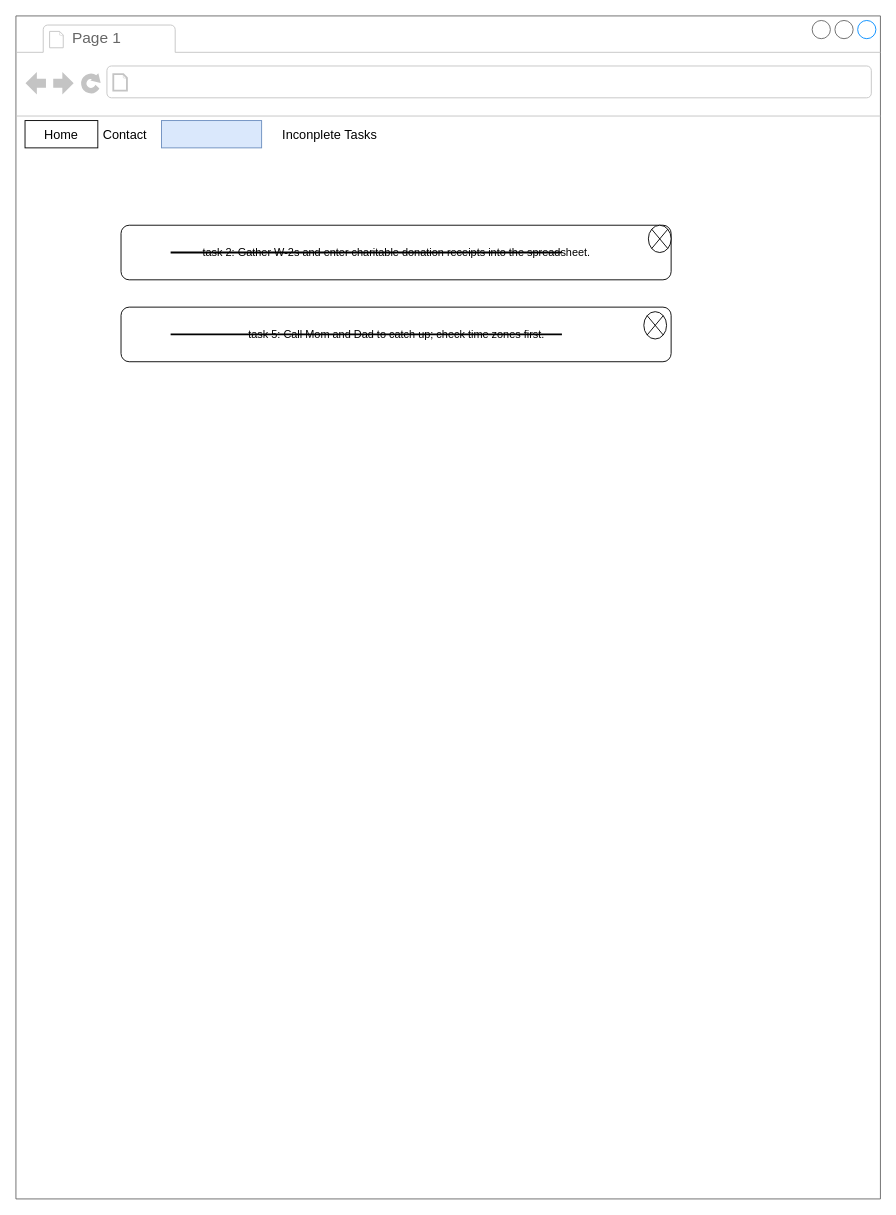
This 896x1215 diagram has some shape labels left out. Each missing label, with the box of its shape:
Completed Tasks: (161, 120, 262, 148)
https://www.jungleroomcafé.com: (133, 70, 362, 94)
